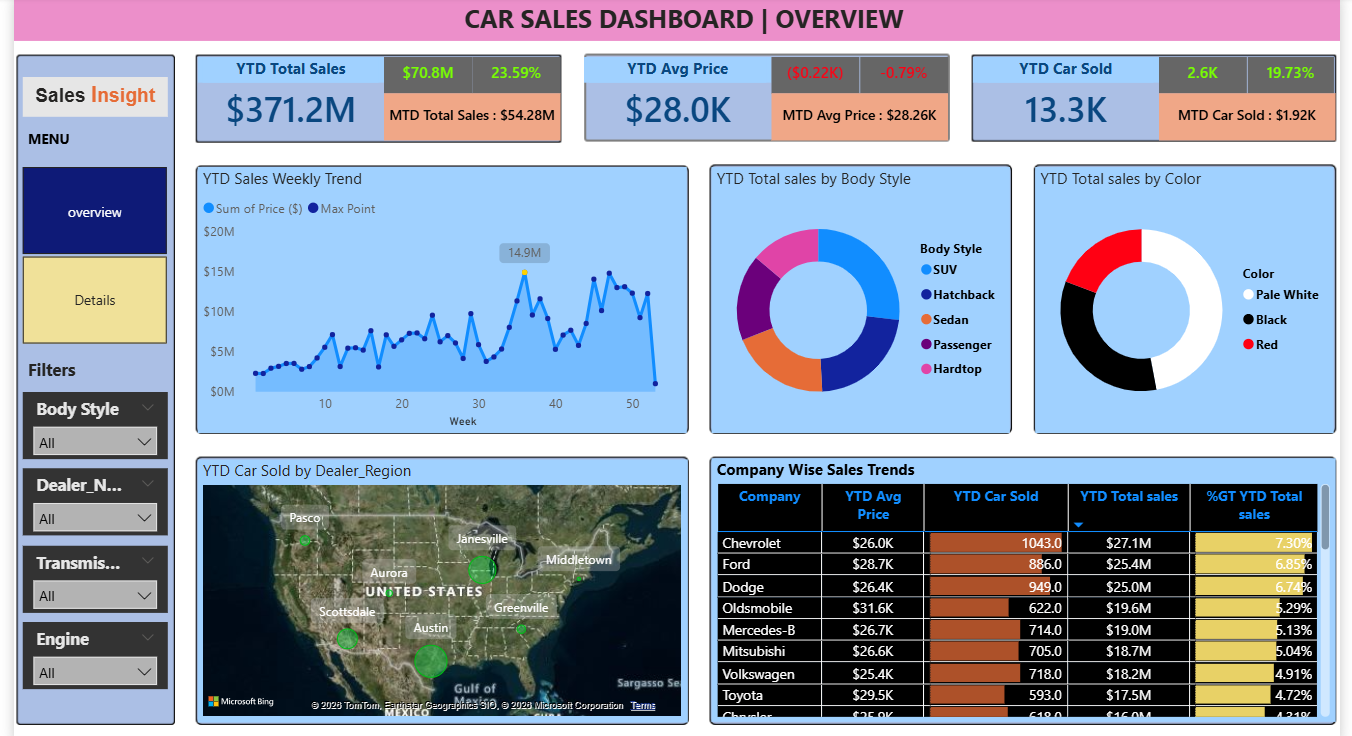

Layout of this report page (visuals, bound fields, positions):
{"tool":"powerbi","page":{"name":"overview","canvas":[1280,720],"ordinal":0},"visuals":[{"type":"card","title":"YTD Total Sales","fields":{"Values":["car_data.YTD Total sales"]},"box":[177.3,57.9,179.8,80.8],"z":0},{"type":"card","fields":{"Values":["car_data.Sales Difference"]},"box":[357.1,57.9,85.7,35],"z":1000},{"type":"card","fields":{"Values":["car_data.YOY Sales Growth"]},"box":[442.8,57.9,84.5,35],"z":2000},{"type":"card","fields":{"Values":["car_data.MTTD KPI"]},"box":[357.1,92.9,170.1,45.8],"z":3000},{"type":"card","title":"YTD Avg Price","fields":{"Values":["car_data.YTD Avg Price"]},"box":[550.1,57.9,181,80.8],"z":4000},{"type":"card","fields":{"Values":["car_data.Avg Price Diff"]},"box":[731.1,57.9,84.5,35],"z":5000},{"type":"card","fields":{"Values":["car_data.YOY Avg Price Growth"]},"box":[816.8,57.9,84.5,35],"z":6000},{"type":"card","fields":{"Values":["car_data.MTD Avg Price KPI"]},"box":[731.1,92.9,170.1,45.8],"z":7000},{"type":"card","title":"YTD Car Sold","fields":{"Values":["car_data.YTD Car Sold"]},"box":[925.3,57.9,179.8,80.8],"z":8000},{"type":"card","fields":{"Values":["car_data.Car Sold Diff"]},"box":[1105.1,57.9,84.5,35],"z":9000},{"type":"card","fields":{"Values":["car_data.YOY Car sold Growth"]},"box":[1190.8,57.9,83.2,35],"z":10000},{"type":"card","fields":{"Values":["car_data.MTD Car Sold KPI"]},"box":[1105.1,92.9,170.1,45.8],"z":11000},{"type":"areaChart","title":"YTD Sales Weekly Trend","fields":{"Category":["Calendar Table.Week"],"Y":["Sum(car_data.Price ($))","car_data.Max Point"]},"box":[177.3,164.1,471.7,257],"z":12000},{"type":"donutChart","fields":{"Y":["car_data.YTD Total sales"],"Category":["car_data.Body Style"]},"box":[673.2,164.1,288.3,257],"z":13000},{"type":"donutChart","fields":{"Y":["car_data.YTD Total sales"],"Category":["car_data.Color"]},"box":[985.7,164.1,288.3,257],"z":14000},{"type":"map","fields":{"Category":["car_data.Dealer_Region"],"Size":["car_data.YTD Car Sold"]},"box":[177.3,446.4,471.7,253.4],"z":15000},{"type":"tableEx","title":"Company Wise Sales Trends","fields":{"Values":["car_data.Company","car_data.YTD Avg Price","car_data.YTD Car Sold","car_data.YTD Total sales1","car_data.YTD Total sales"]},"box":[673.2,445.2,602,254.6],"z":16000},{"type":"textbox","box":[0,0,1280,42.2],"z":17000},{"type":"slicer","fields":{"Values":["car_data.Body Style"]},"box":[8.4,381.2,139.9,65.1],"z":18000},{"type":"slicer","fields":{"Values":["car_data.Dealer_Name"]},"box":[8.4,454.8,139.9,65.1],"z":19000},{"type":"slicer","fields":{"Values":["car_data.Transmission"]},"box":[8.4,529.6,139.9,65.1],"z":20000},{"type":"slicer","fields":{"Values":["car_data.Engine"]},"box":[8.4,603.2,139.9,65.1],"z":21000},{"type":"textbox","box":[8.4,343.8,89.3,31.4],"z":22000},{"type":"textbox","box":[8.4,77.2,139.9,38.6],"z":23000},{"type":"textbox","box":[8.4,123.1,89.3,31.4],"z":24000},{"type":"pageNavigator","box":[8.4,164.1,139.9,170.1],"z":25000}]}

Visuals, with their boxes in screenshot pixels (x1, y1, x2, y2):
"YTD Total Sales" card: (192, 50, 380, 134)
card - car_data.Sales Difference: (380, 50, 470, 87)
card - car_data.YOY Sales Growth: (470, 50, 558, 87)
card - car_data.MTTD KPI: (380, 87, 558, 134)
"YTD Avg Price" card: (582, 50, 771, 134)
card - car_data.Avg Price Diff: (771, 50, 859, 87)
card - car_data.YOY Avg Price Growth: (861, 50, 949, 87)
card - car_data.MTD Avg Price KPI: (771, 87, 949, 134)
"YTD Car Sold" card: (974, 50, 1162, 134)
card - car_data.Car Sold Diff: (1162, 50, 1250, 87)
card - car_data.YOY Car sold Growth: (1251, 50, 1338, 87)
card - car_data.MTD Car Sold KPI: (1162, 87, 1340, 134)
"YTD Sales Weekly Trend" areaChart: (192, 161, 685, 429)
donutChart - car_data.YTD Total sales x car_data.Body Style: (710, 161, 1012, 429)
donutChart - car_data.YTD Total sales x car_data.Color: (1037, 161, 1338, 429)
map - car_data.Dealer_Region x car_data.YTD Car Sold: (192, 456, 685, 721)
"Company Wise Sales Trends" tableEx: (710, 455, 1340, 721)
textbox: (7, 0, 1345, 34)
slicer - car_data.Body Style: (16, 388, 162, 456)
slicer - car_data.Dealer_Name: (16, 465, 162, 533)
slicer - car_data.Transmission: (16, 543, 162, 611)
slicer - car_data.Engine: (16, 620, 162, 688)
textbox: (16, 349, 109, 382)
textbox: (16, 70, 162, 110)
textbox: (16, 118, 109, 151)
pageNavigator: (16, 161, 162, 339)
